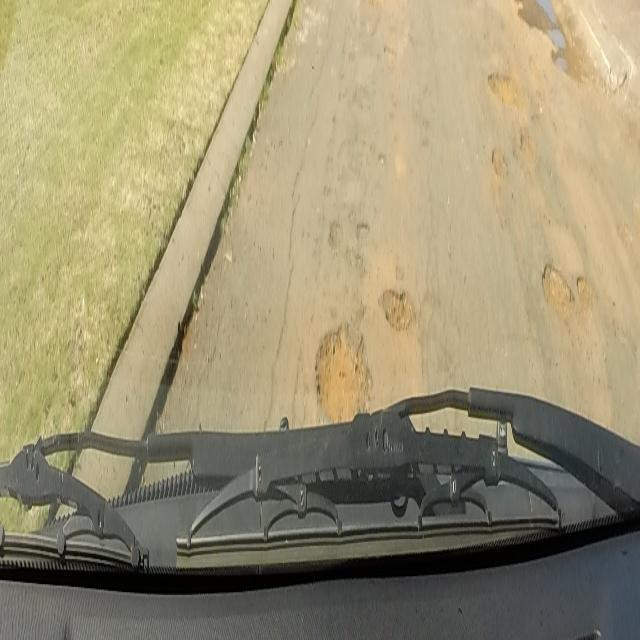pothole: (313, 282, 419, 430), (487, 70, 543, 182), (540, 256, 590, 310)
